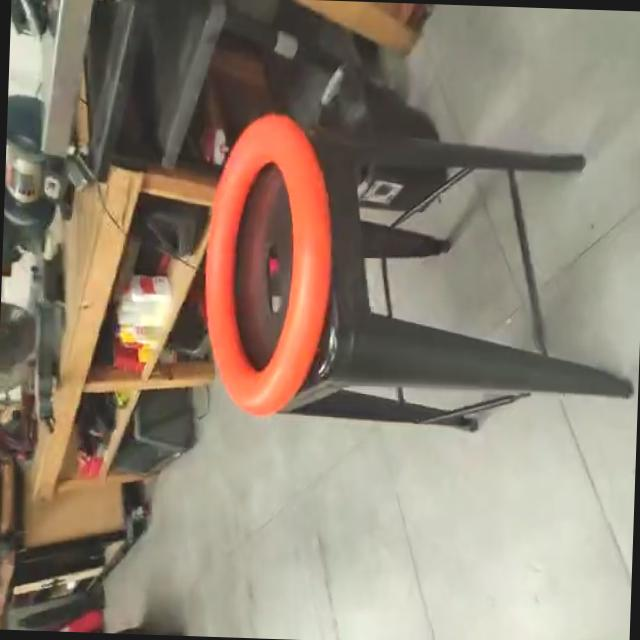note: (200, 107, 340, 420)
